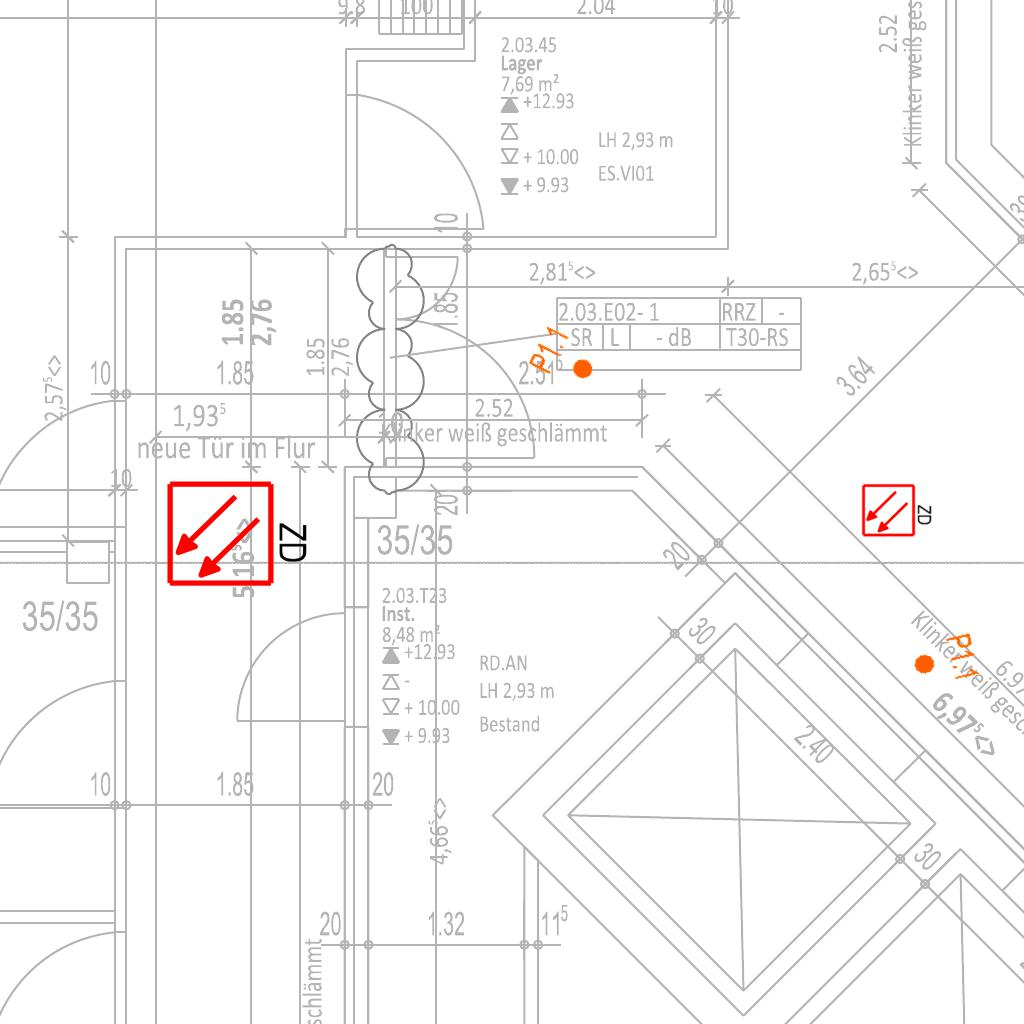Downlight_LED_Einbauleuchten_Flur: (526, 322, 604, 394), (908, 631, 982, 691)
ZD_Melder_in_Zwischendecke_mit_Revisionsoeffnung_mind_40_x_40_cm: (165, 475, 314, 589), (861, 481, 935, 538)
